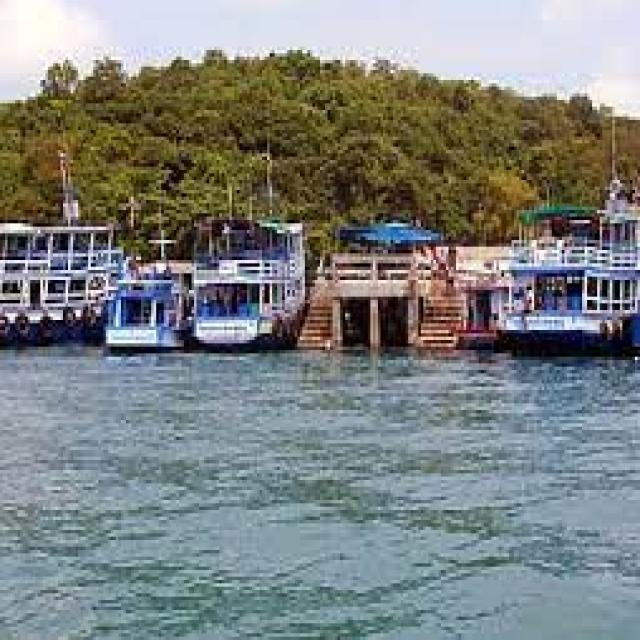passenger ship: (489, 190, 634, 345), (180, 206, 300, 369), (0, 187, 126, 333), (98, 248, 190, 342)
